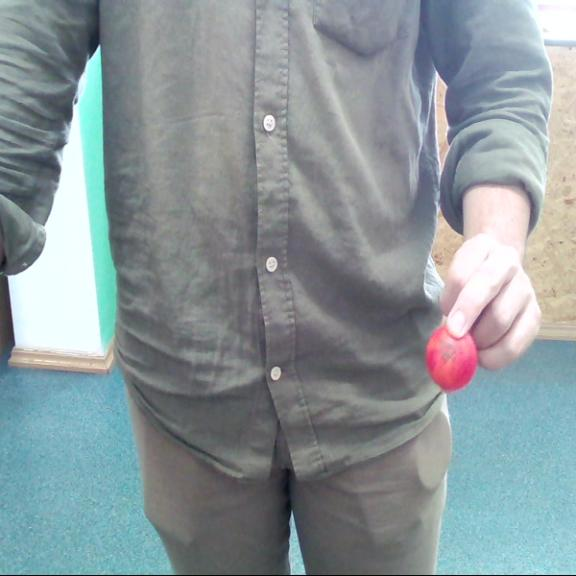ball: (428, 324, 479, 390)
